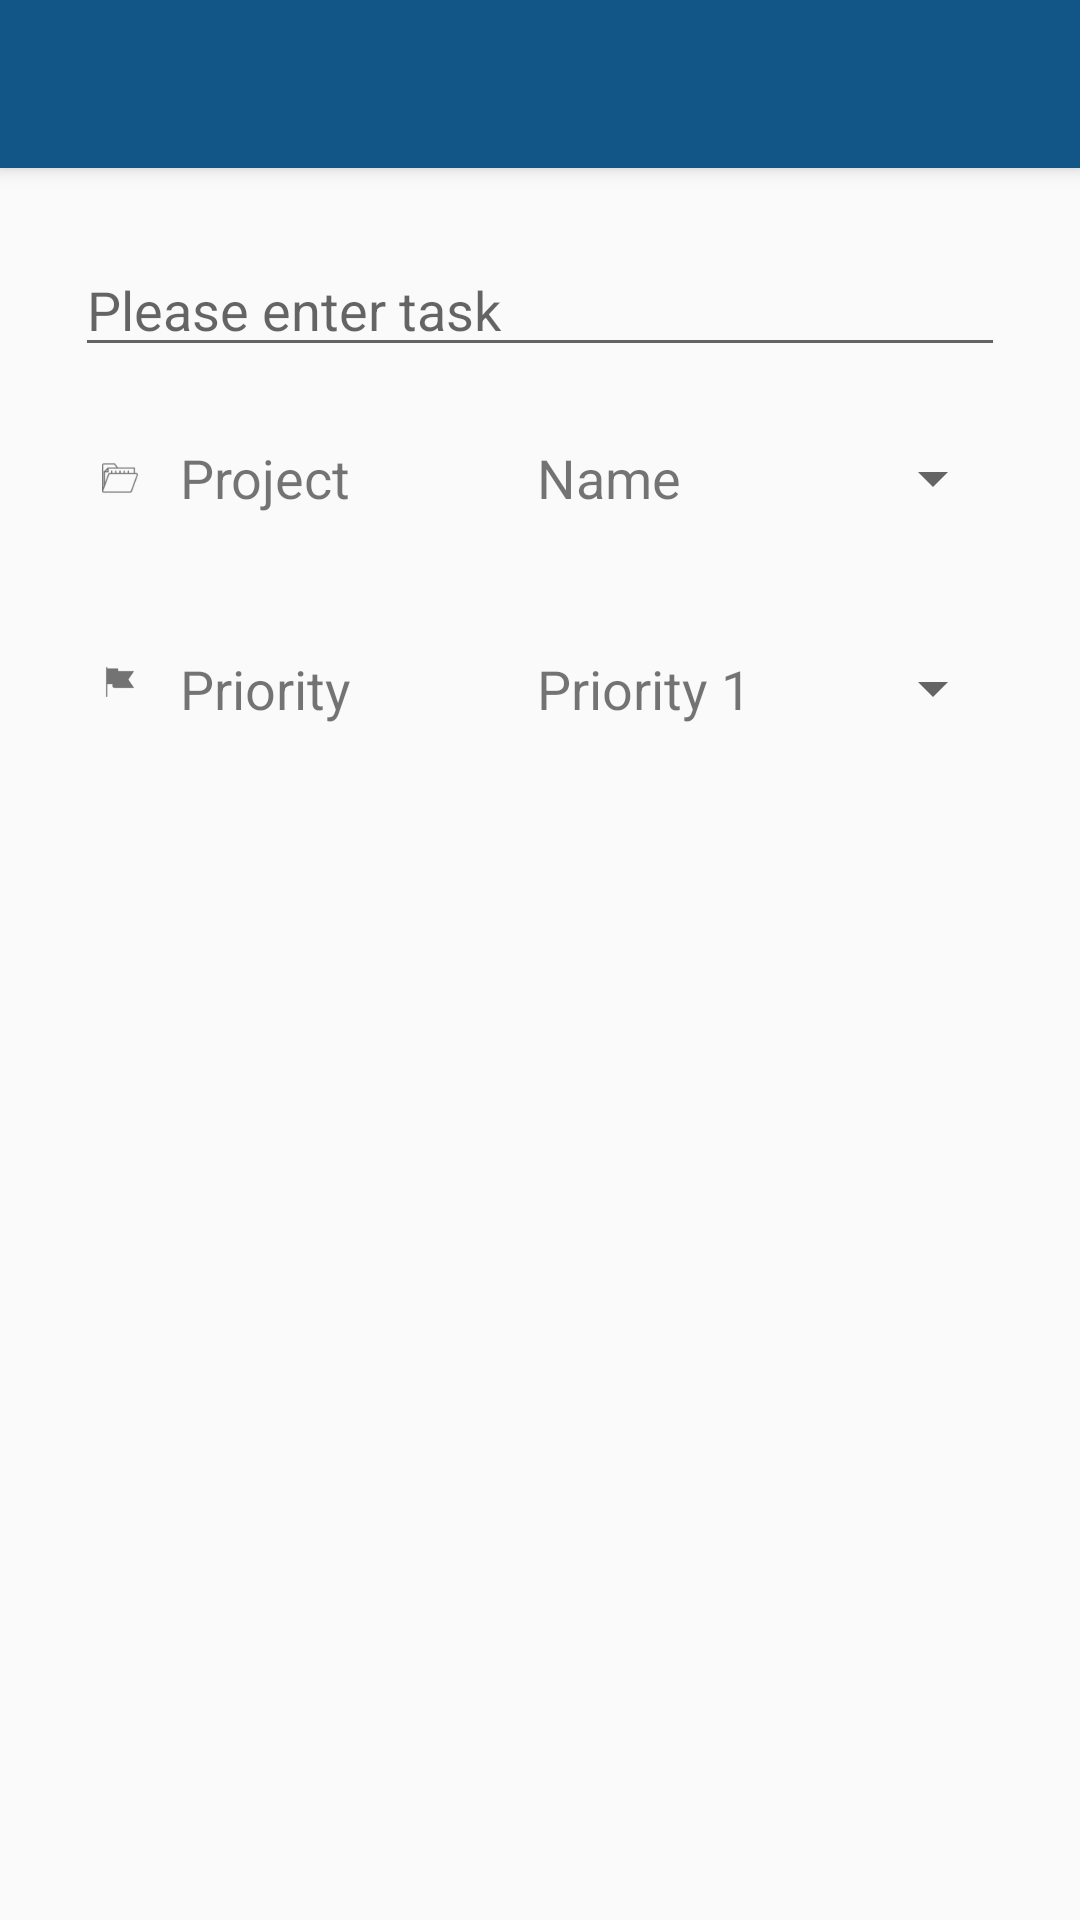

Icon click points for this 1080 × 1920 phone screenshot, format (x=x, y=y):
folder: (x=120, y=478)
